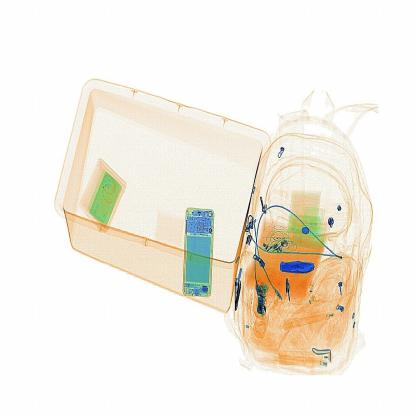knife: (278, 260, 318, 279)
